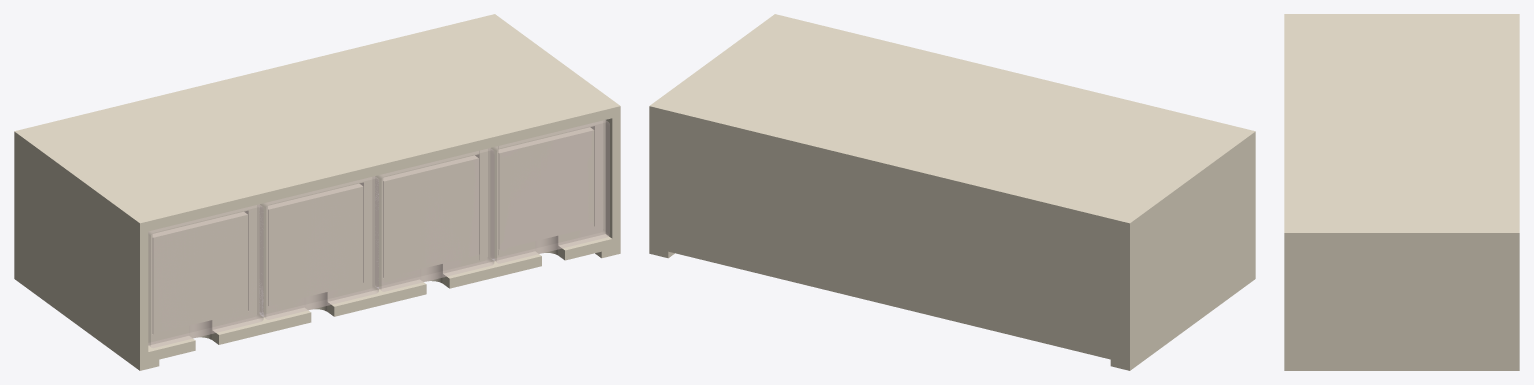
3 views of the same model, side by side, from view 1: azimuth 30°, elevation 25°; view 2: azimuth 150°, elevation 25°; view 3: azimuth 270°, elevation 25° (orthographic). The views are drawn at different scales.
Parts seen in each view (by area): view 1: model; view 2: model; view 3: model.
Part boxes in pixels (x1,y1,x2,y2): model: [14, 14, 620, 370]; model: [649, 14, 1255, 370]; model: [1284, 14, 1519, 370].
Size of the model in its own units: 375 by 110 by 170.
